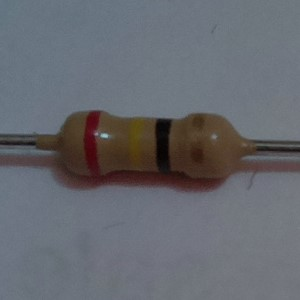black_band: (153, 114, 174, 178)
gold_band: (189, 111, 207, 178)
orange_band: (81, 109, 103, 178)
yellow_band: (125, 116, 147, 173)
